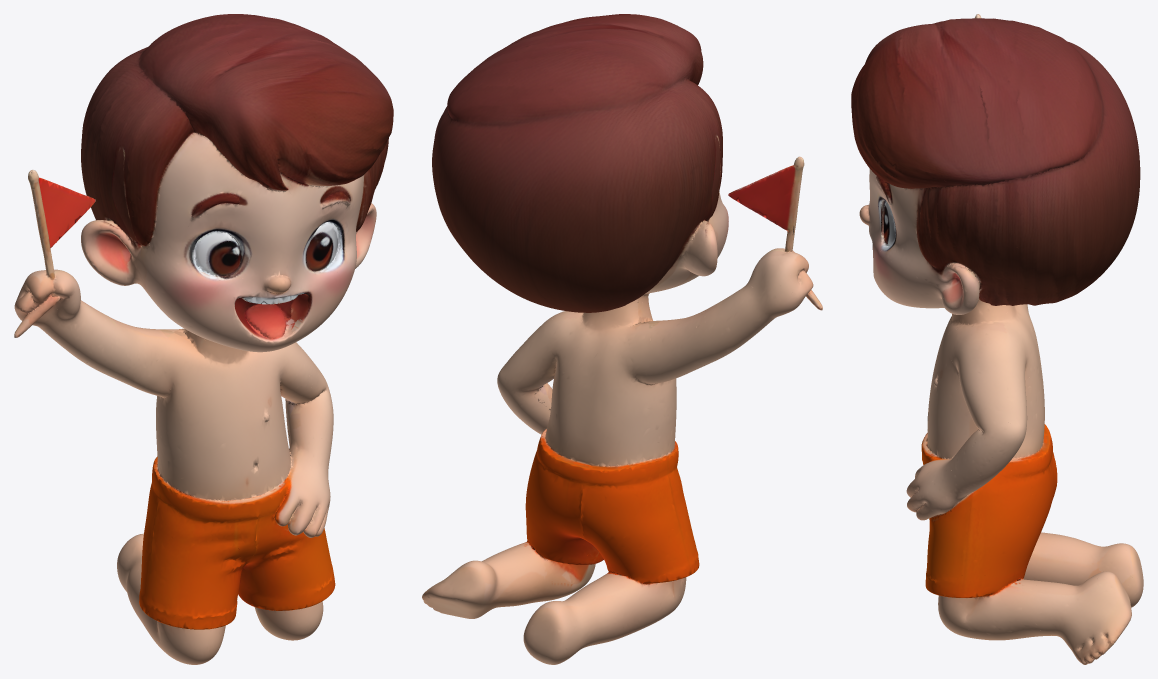
File: niñodelcastillo.glb
3 renders of one model, left to right at view 1: azimuth 30°, elevation 25°; view 2: azimuth 150°, elevation 25°; view 3: azimuth 270°, elevation 25°, orthographic. The views are drawn at different scales.
Visible parts, largest first — view 1: model; view 2: model; view 3: model.
Part boxes in pixels (box(x1,y1,x2,y2)): model: box(14, 14, 393, 664); model: box(422, 14, 822, 664); model: box(851, 14, 1143, 664).
Bounding box in the file's own units: 1.24 × 1.9 × 0.8683.
Materials: 1 (1 with a texture image).
